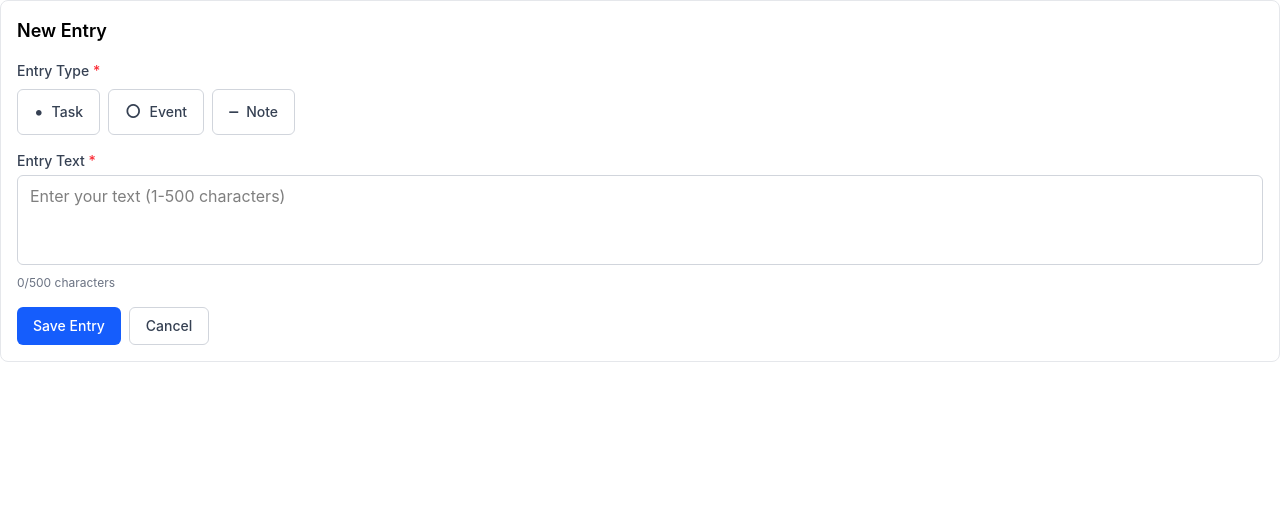
Test: EntryForm › shows date field for event type
expect the field labelled "date" is not shown: met
Note: Select event type
Click the button "○ Event": (156, 112) [108,89,204,135]
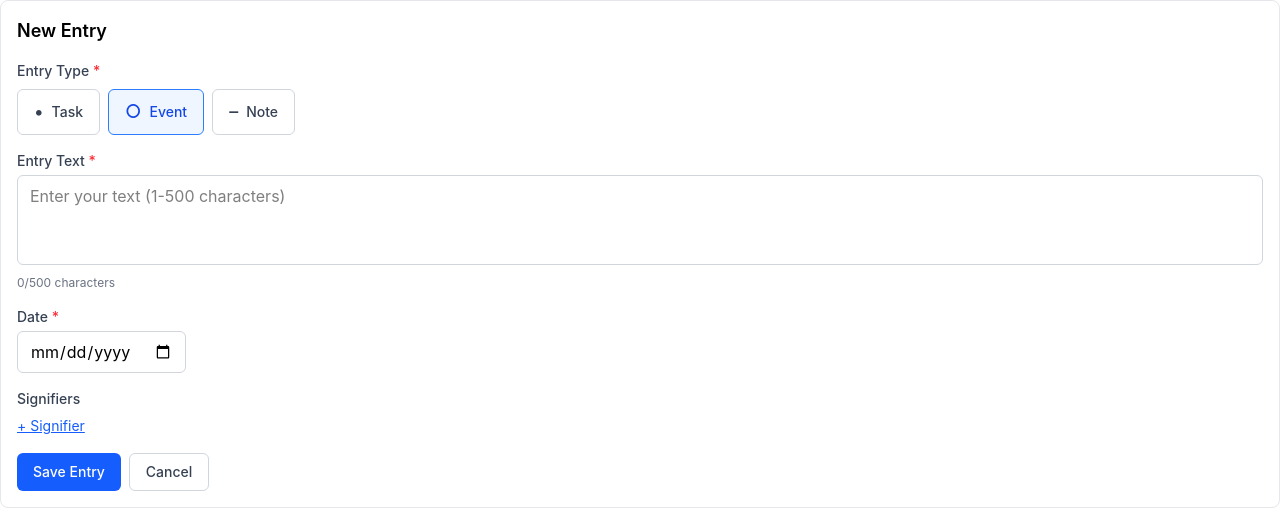
expect the date field labelled "Date *" is shown: met, box [17,331,186,373]
